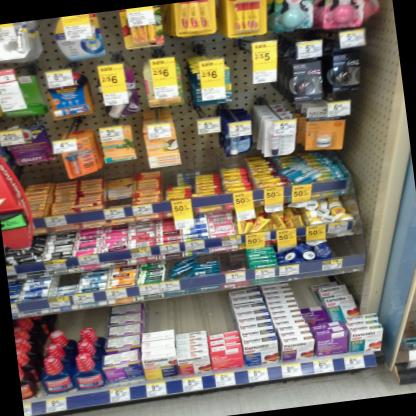empty_space: (53, 305, 99, 336), (198, 288, 231, 330), (287, 276, 323, 308), (170, 295, 201, 332), (141, 298, 170, 333)
